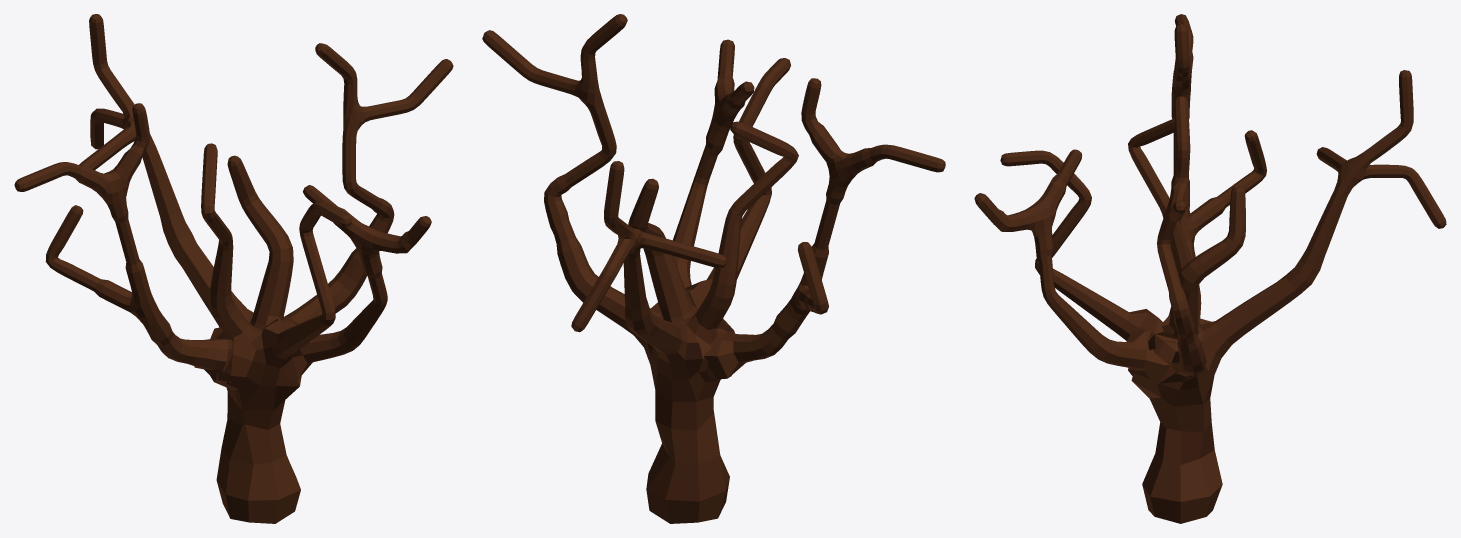
File: dead tree.fbx
3 views of the same model, side by side, from view 1: azimuth 30°, elevation 25°; view 2: azimuth 150°, elevation 25°; view 3: azimuth 270°, elevation 25° (orthographic). The views are drawn at different scales.
Visible parts, largest first — view 1: Plane; view 2: Plane; view 3: Plane.
Part boxes in pixels (x1,y1,x2,y2): Plane: (14,14,453,523); Plane: (482,14,945,523); Plane: (974,14,1446,523).
Size of the model in its own units: 686 by 695 by 656.
